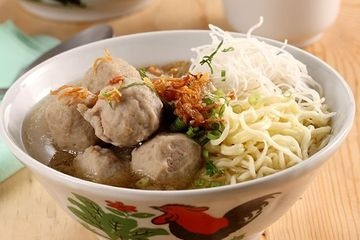bakso_malang: (45, 39, 334, 190)
